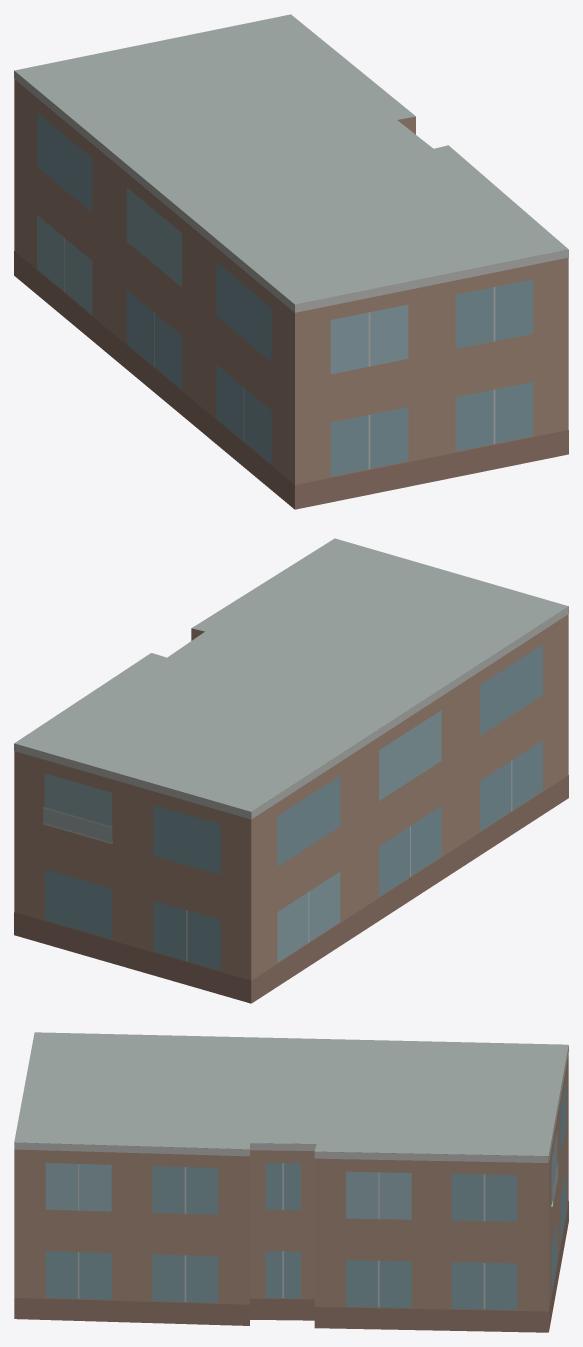
Rendered from survey-upis-32954655.glb.
The picture shows the model from 3 angles, top to bottom: view 1: azimuth 30°, elevation 25°; view 2: azimuth 150°, elevation 25°; view 3: azimuth 270°, elevation 25°; orthographic projection. The views are drawn at different scales.
Parts seen in each view (by area): view 1: survey-upis-32954655.tmp; view 2: survey-upis-32954655.tmp; view 3: survey-upis-32954655.tmp.
Part boxes in pixels (box(x1,y1,x2,y2)): survey-upis-32954655.tmp: box(14, 14, 568, 509); survey-upis-32954655.tmp: box(14, 538, 568, 1003); survey-upis-32954655.tmp: box(14, 1032, 568, 1332).
Size of the model in its own units: 9.18 by 6.1 by 17.38.
